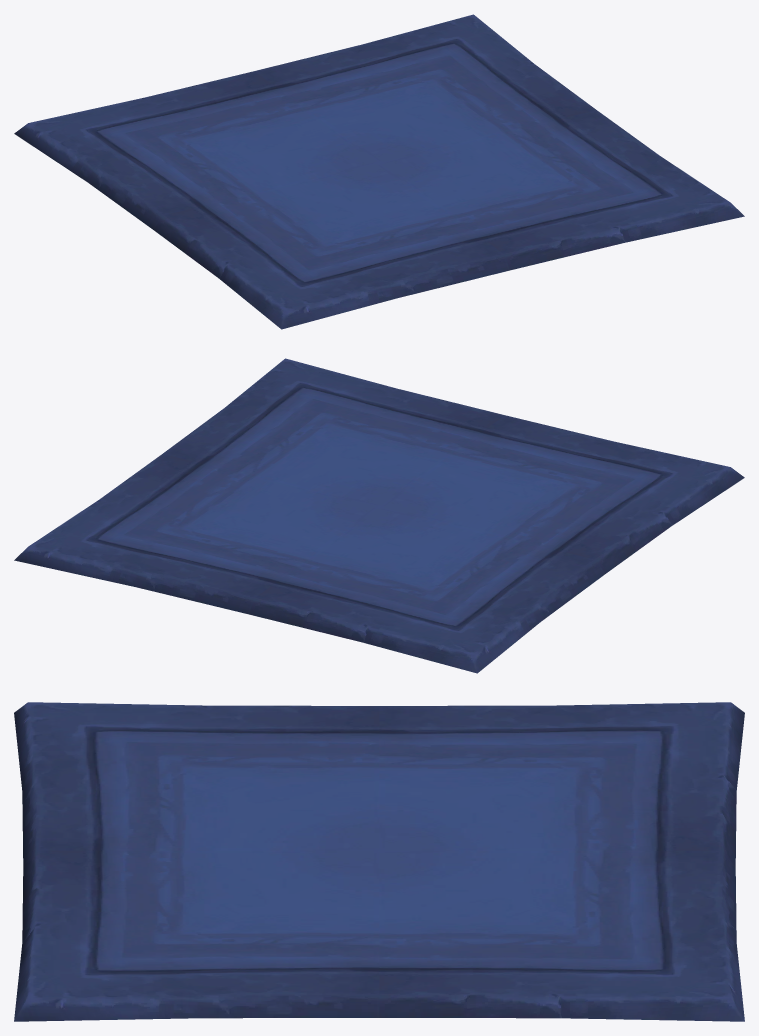
3 views of the same model, one above another, from view 1: azimuth 30°, elevation 25°; view 2: azimuth 150°, elevation 25°; view 3: azimuth 270°, elevation 25° (orthographic). The views are drawn at different scales.
Bounding box in the file's own units: 4.07 × 0.1018 × 4.07.
1 material, 1 textured.
